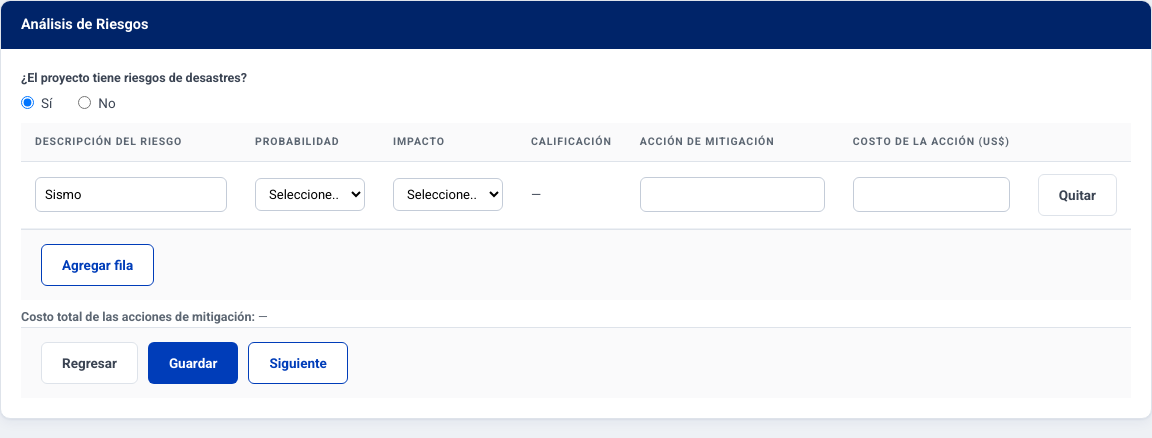
Scenario: presentación de los importes y de la tabla › agrega el separador de miles al salir del campo
Type "1250000" into the field named "Costo de la acción (US$) 1" at [931, 195], box [853,177,1010,212]
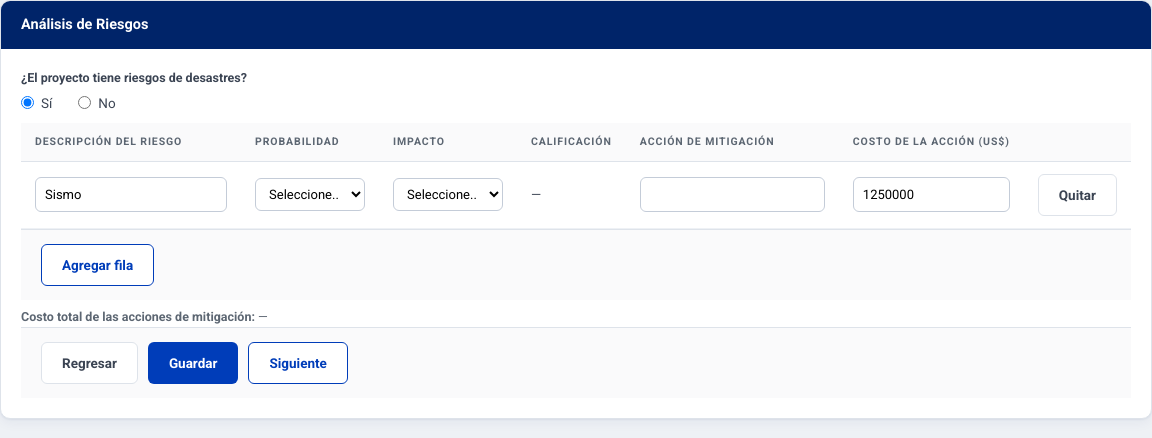
Leave the field named "Costo de la acción (US$) 1", box [853,177,1010,212]
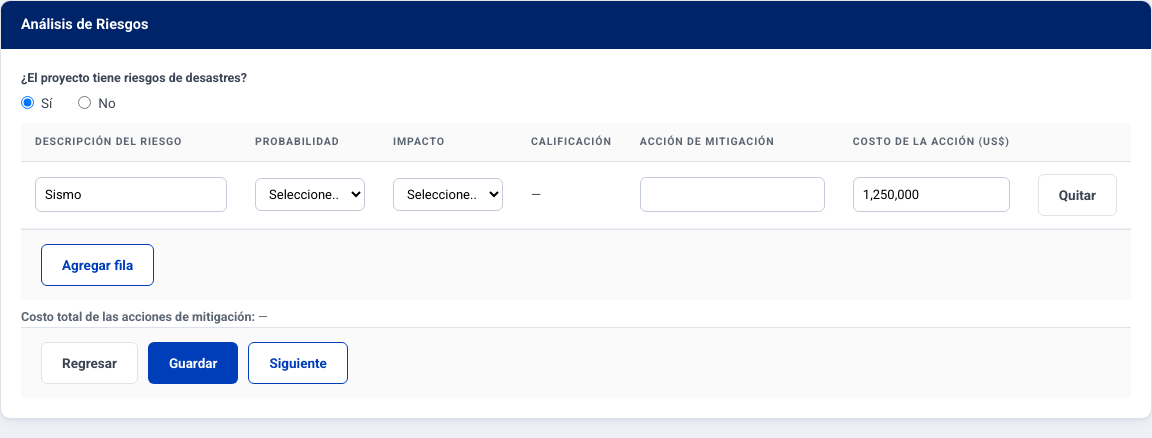
Now the field named "Costo de la acción (US$) 1" holds "1,250,000", box [853,177,1010,212]
